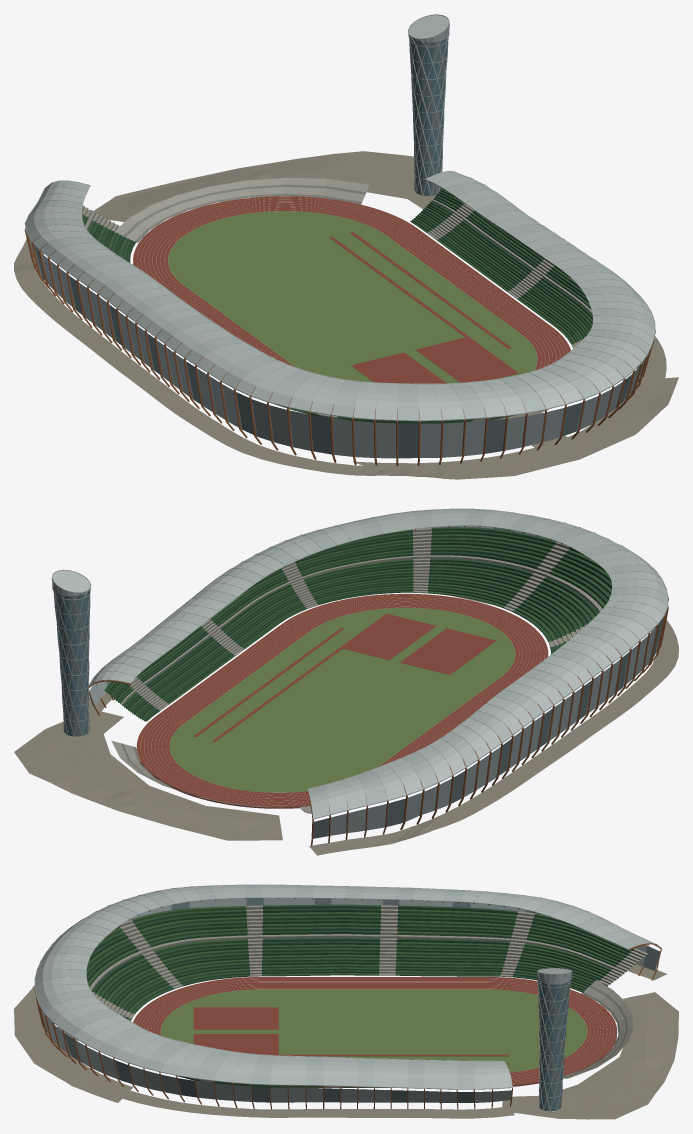
Rendered from site.glb.
The picture shows the model from 3 angles, top to bottom: view 1: azimuth 30°, elevation 25°; view 2: azimuth 150°, elevation 25°; view 3: azimuth 270°, elevation 25°; orthographic projection. The views are drawn at different scales.
Parts seen in each view (by area): view 1: context-oc-hayward, hayward-exterior-ground; view 2: context-oc-hayward, hayward-exterior-ground; view 3: context-oc-hayward, hayward-exterior-ground.
Part boxes in pixels (bbox=[...]): context-oc-hayward: bbox=[24, 14, 655, 465]; hayward-exterior-ground: bbox=[14, 151, 678, 479]; context-oc-hayward: bbox=[51, 508, 668, 845]; hayward-exterior-ground: bbox=[14, 593, 678, 855]; context-oc-hayward: bbox=[34, 884, 661, 1111]; hayward-exterior-ground: bbox=[14, 964, 678, 1119].
Size of the model in its own units: 163 by 58.72 by 246.
